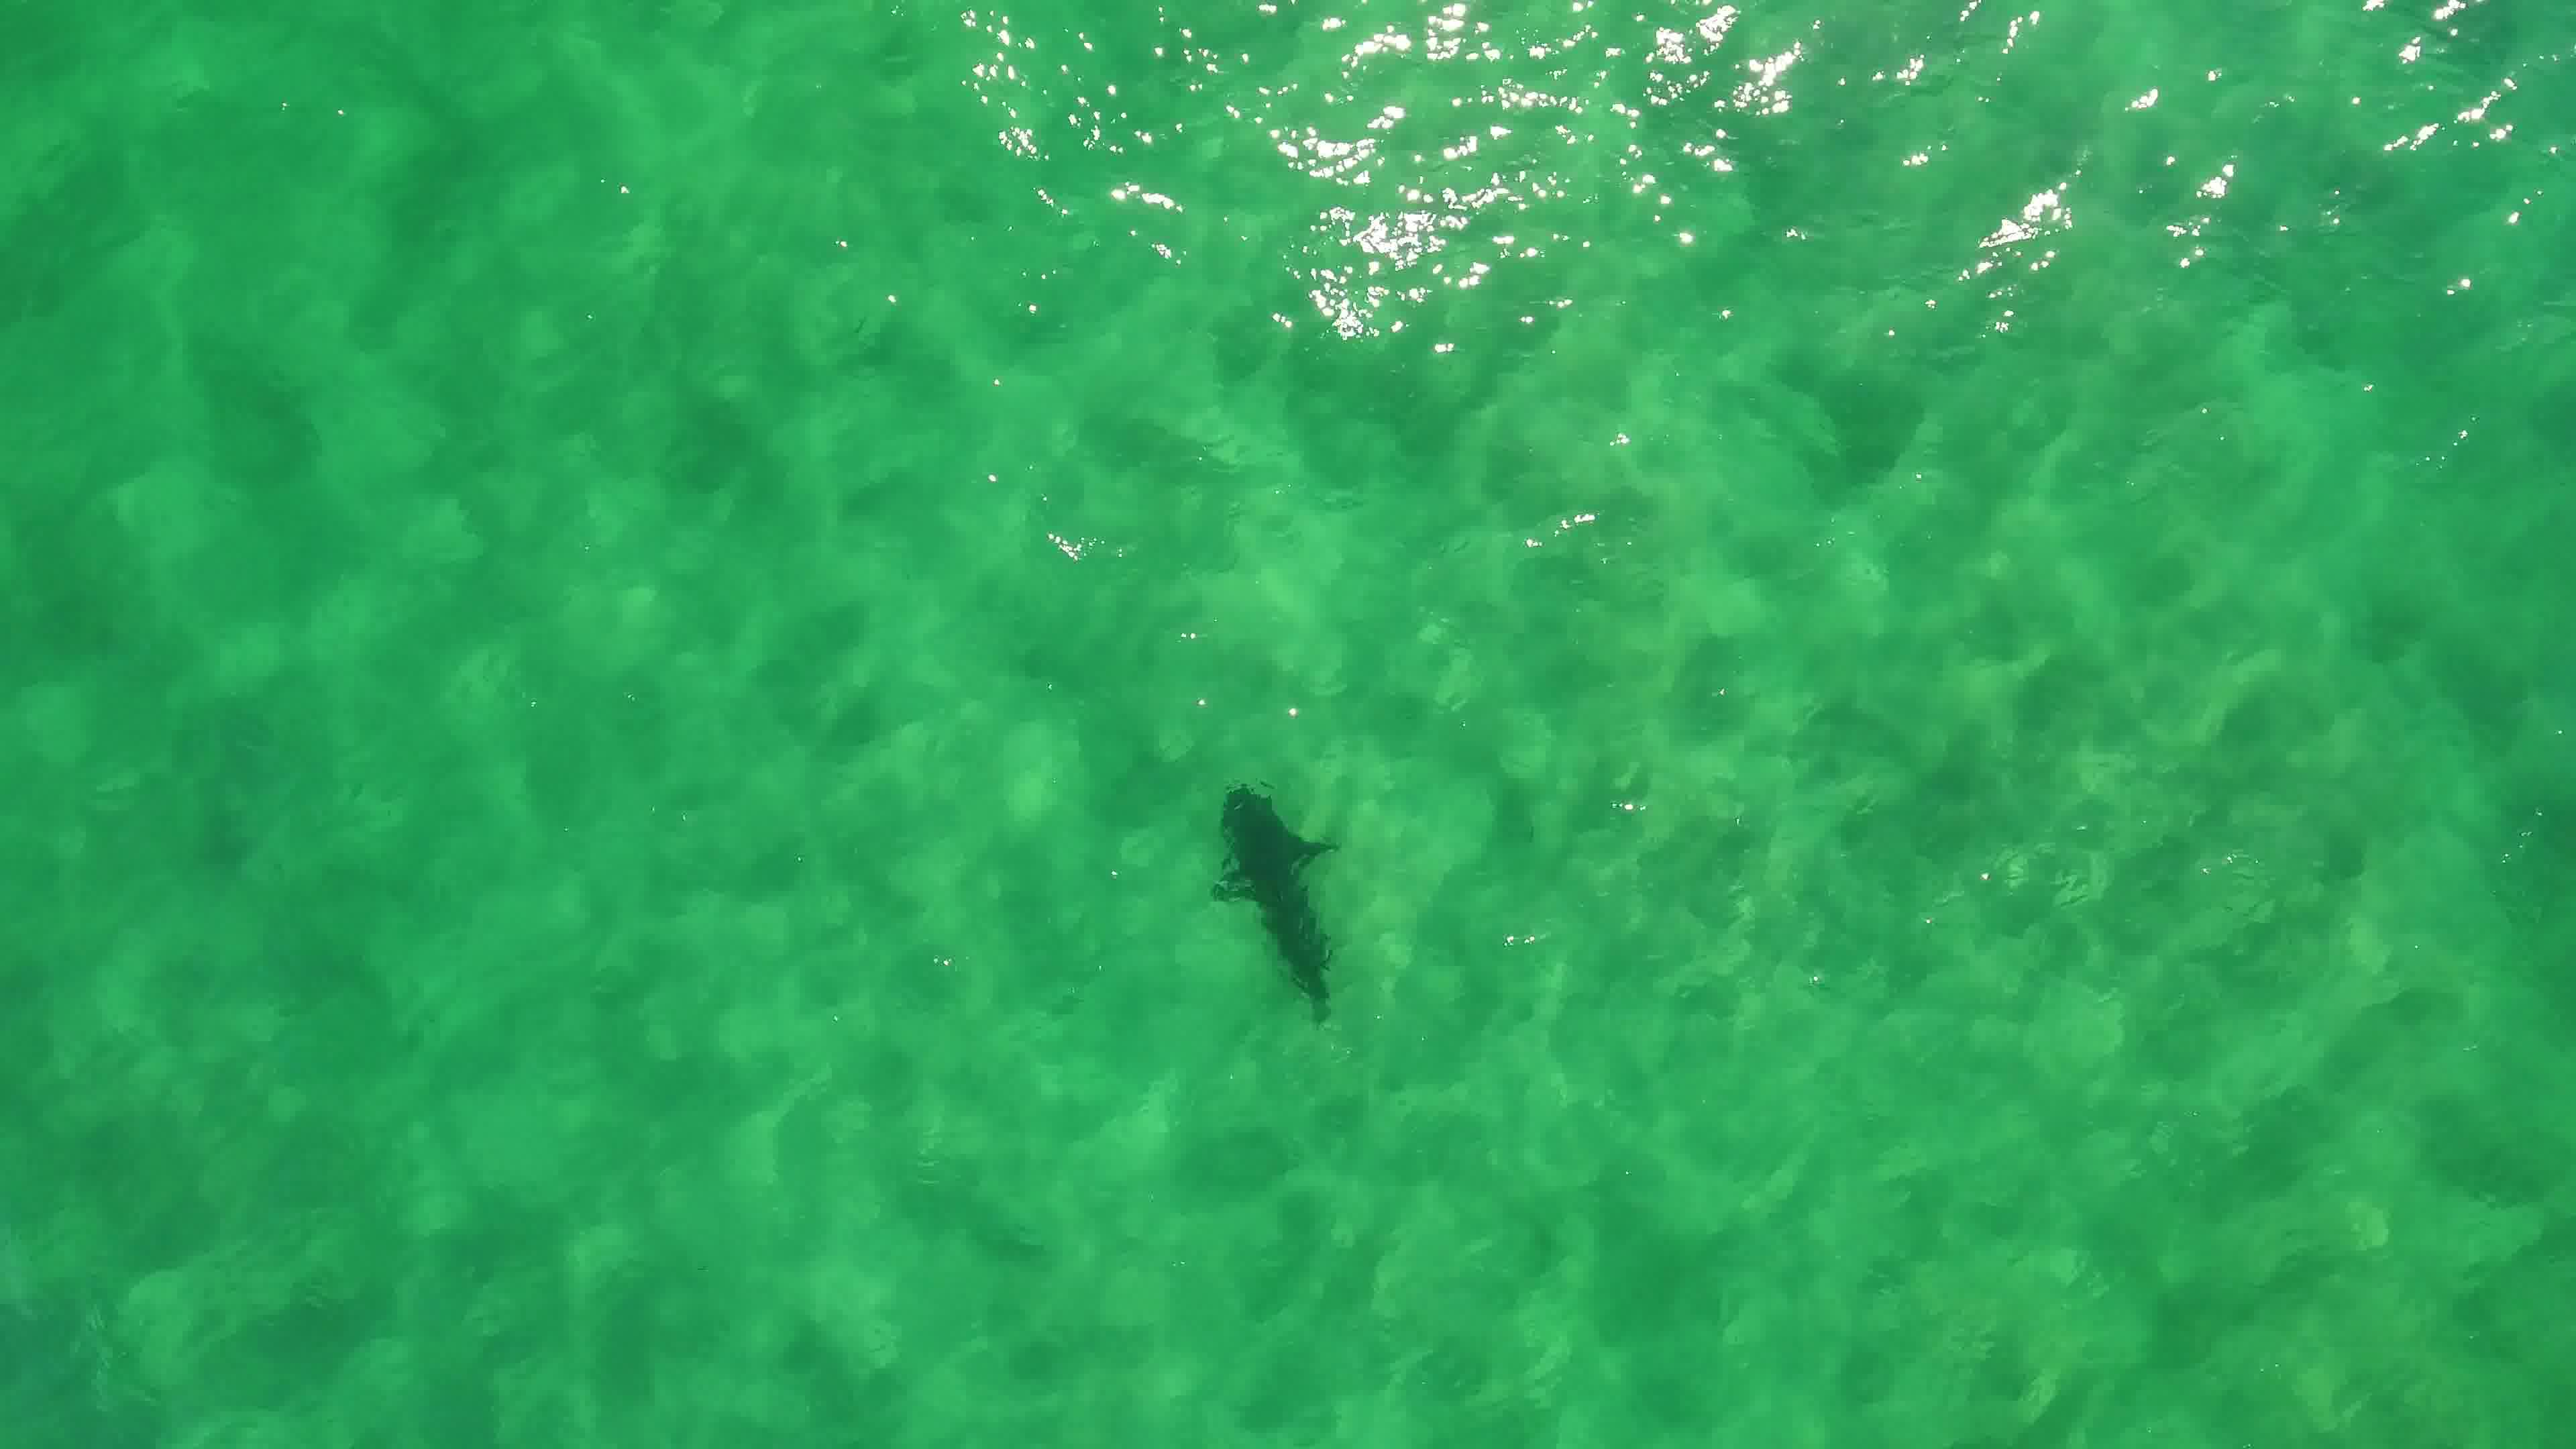shark: (1191, 778, 1341, 1030)
